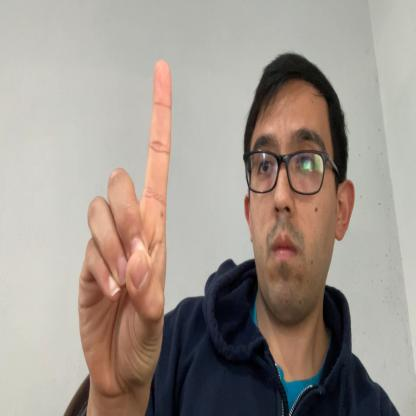D: (77, 61, 173, 394)
